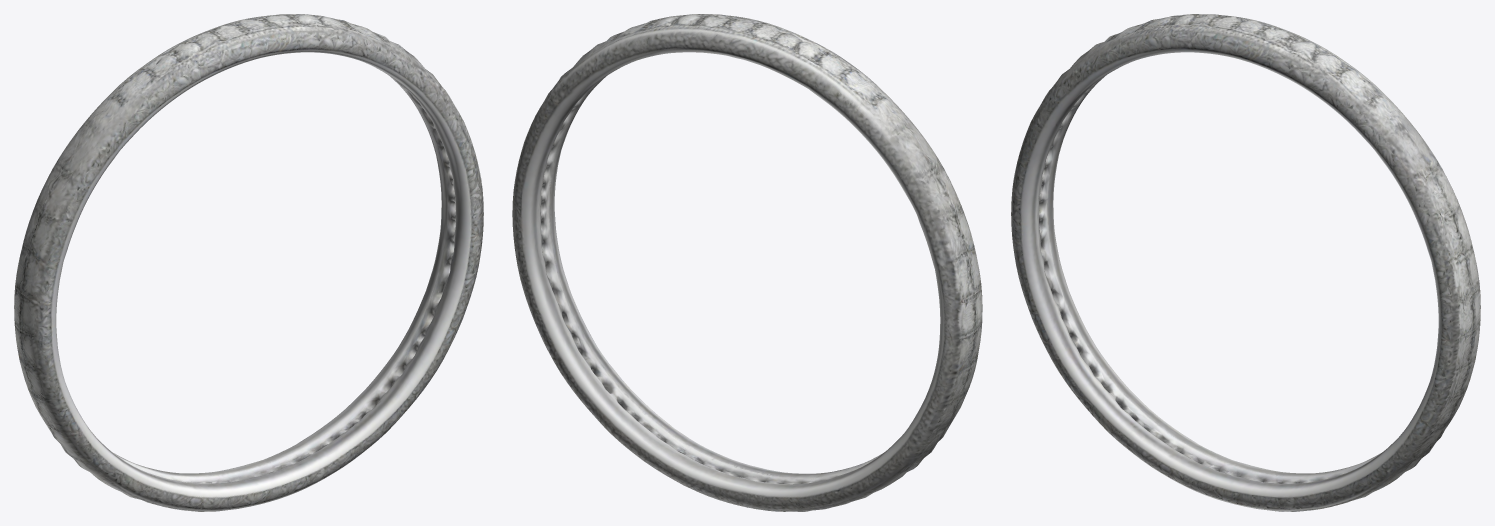
3 renders of one model, left to right at view 1: azimuth 30°, elevation 25°; view 2: azimuth 150°, elevation 25°; view 3: azimuth 330°, elevation 25°, orthographic.
Size of the model in its own units: 2 by 2 by 0.2087.
Materials: 1 (1 with a texture image).
